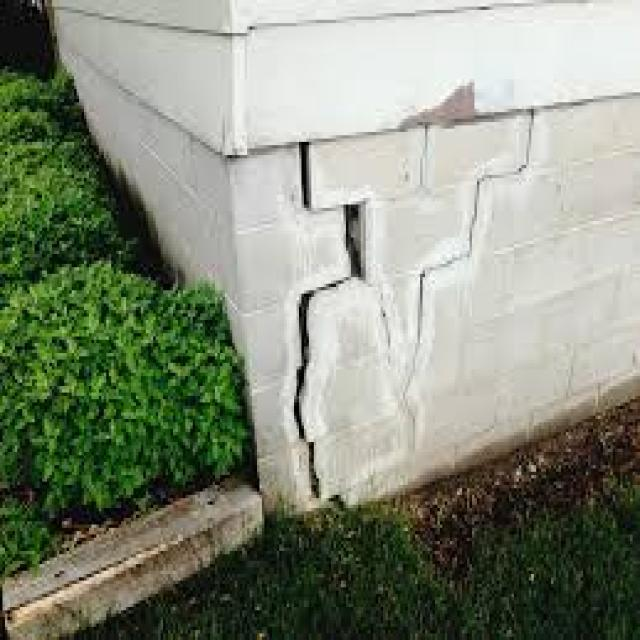Crack: (401, 106, 532, 442), (289, 135, 368, 508)
